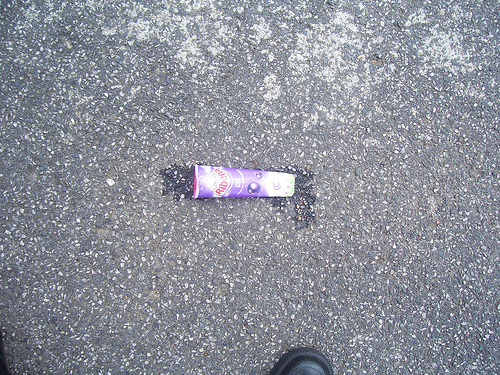litter: (190, 163, 296, 199)
